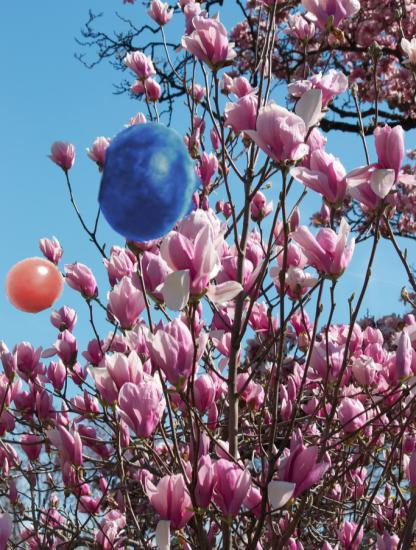Huckleberry: (91, 122, 212, 243)
Tomato: (4, 255, 65, 316)
